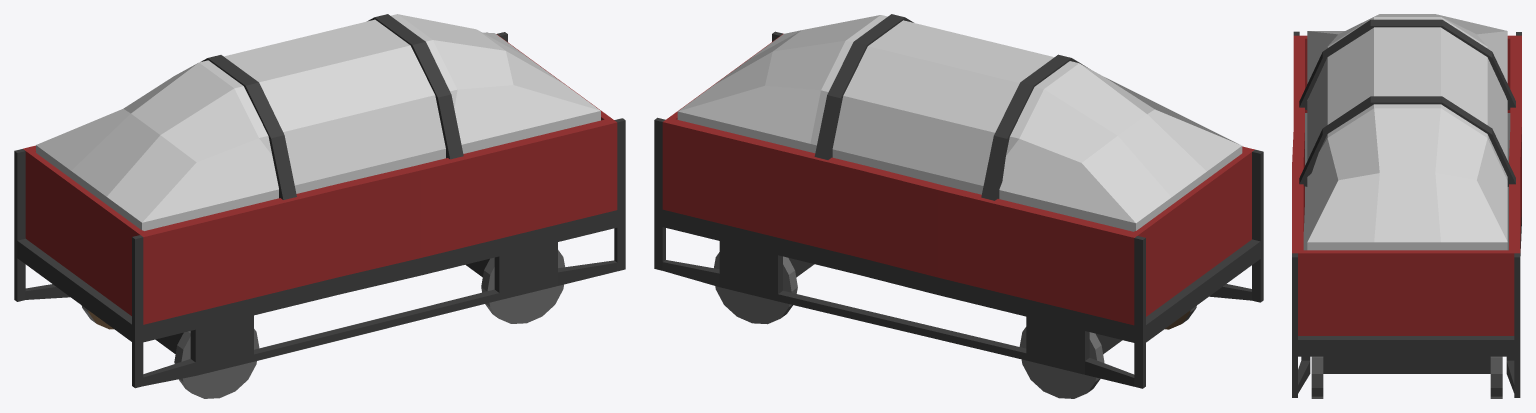
File: gondola_car.fbx
The picture shows the model from 3 angles, left to right: view 1: azimuth 30°, elevation 25°; view 2: azimuth 150°, elevation 25°; view 3: azimuth 270°, elevation 25°; orthographic projection. The views are drawn at different scales.
Visible parts, largest first — view 1: Cube, boxes; view 2: Cube, boxes; view 3: boxes, Cube.
Boxes of the visible parts, x1,y1,x2,y2 form: Cube: (14,32,625,398); boxes: (36,14,600,230); Cube: (654,31,1263,398); boxes: (677,14,1242,231); boxes: (1299,14,1515,250); Cube: (1292,31,1521,398).
Size of the model in its own units: 211 by 113 by 90.64.
